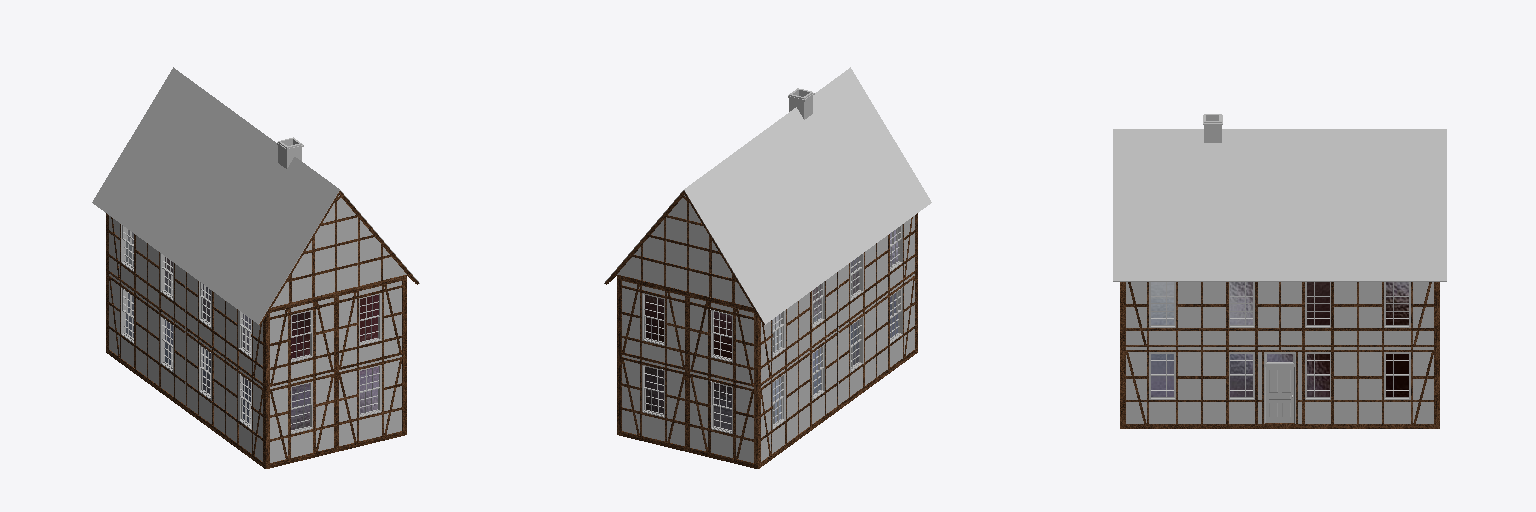
The picture shows the model from 3 angles: view 1: azimuth 30°, elevation 25°; view 2: azimuth 150°, elevation 25°; view 3: azimuth 270°, elevation 25°; orthographic projection.
Parts seen in each view (by area): view 1: half_timbered_1; view 2: half_timbered_1; view 3: half_timbered_1.
Boxes of the visible parts, x1=… form: half_timbered_1: x1=92, y1=67, x2=419, y2=468; half_timbered_1: x1=604, y1=67, x2=931, y2=468; half_timbered_1: x1=1113, y1=114, x2=1446, y2=428.
Size of the model in its own units: 7.07 by 11.54 by 12.64.
6 materials, 2 textured.